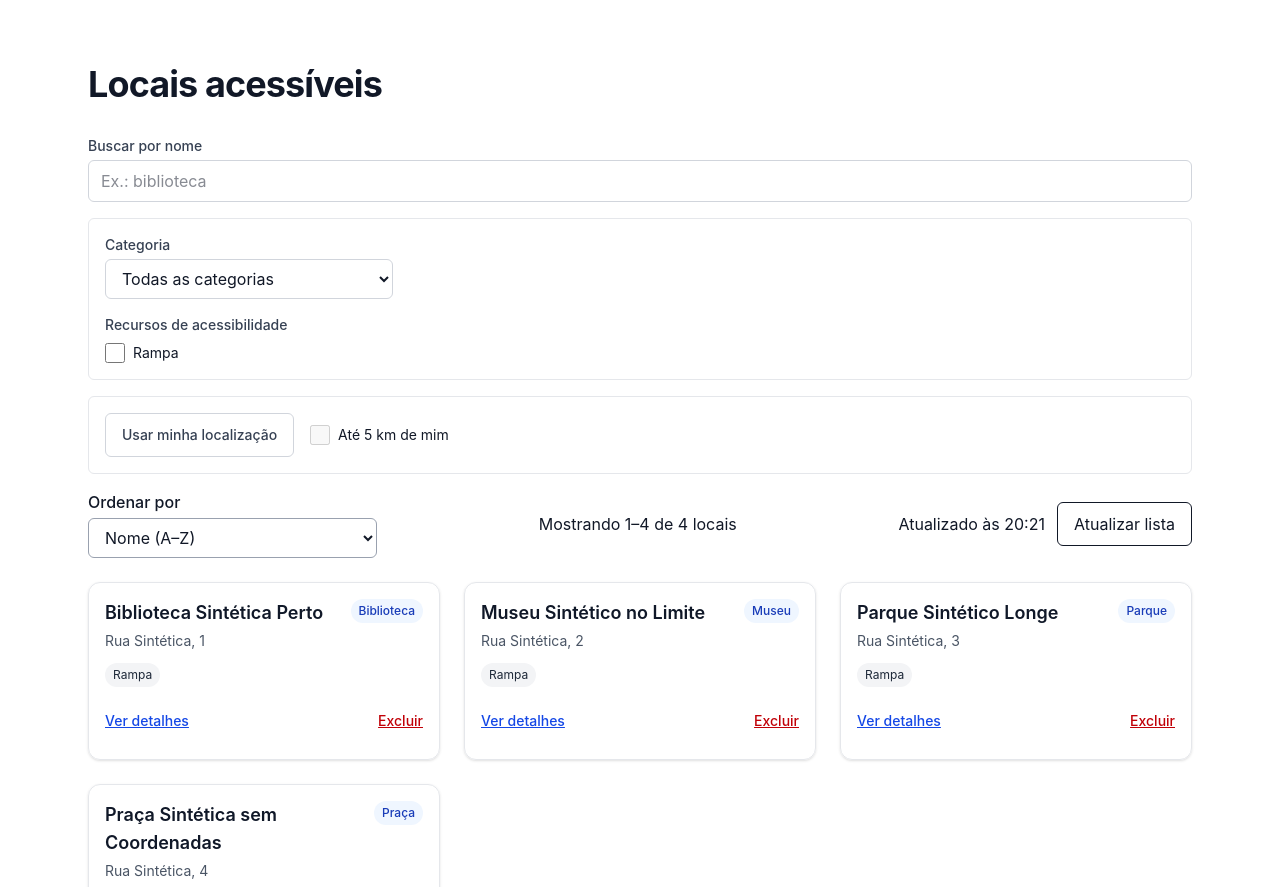
Scenario: Locais: filtro "Até 5 km de mim" › soma com a busca por nome
Expected: the text "Mostrando 1–4 de 4 locais" is shown, 539,512 -> 737,536
Click the button "Usar minha localização".
click(200, 435)  # box 105,413 -> 294,457
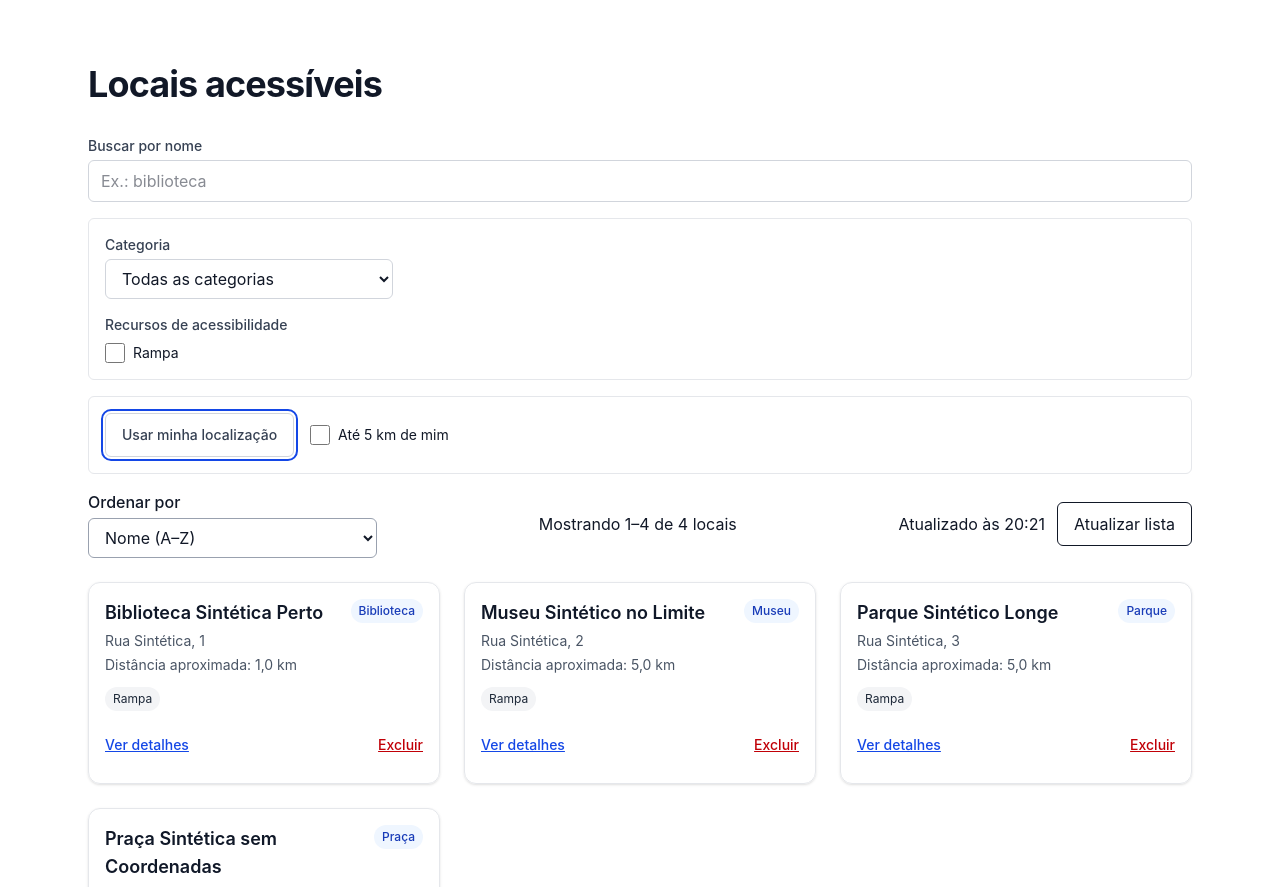
Click the checkbox labelled "Até 5 km de mim".
click(320, 435)  # box 310,425 -> 330,445
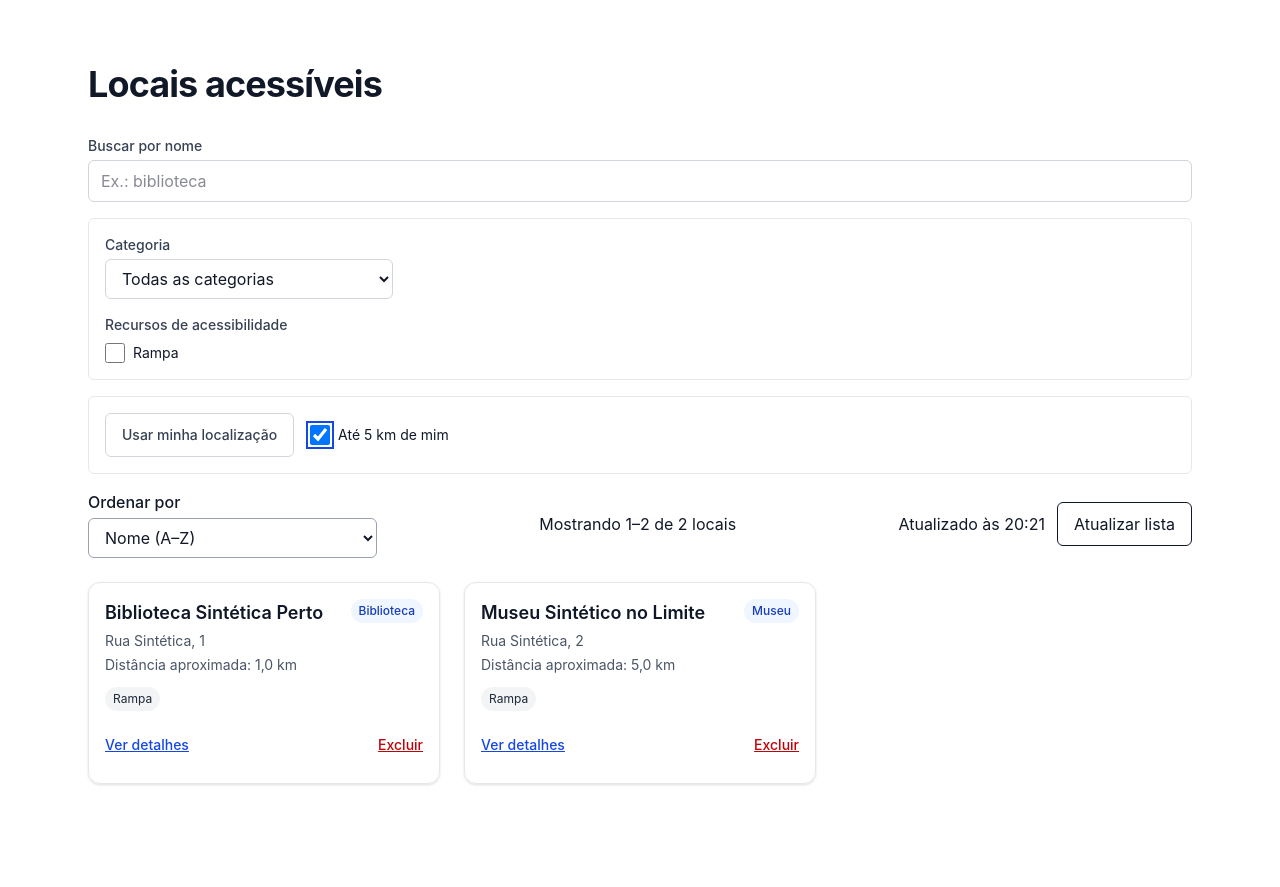
Type "museu" into the search field labelled "Buscar por nome".
click(640, 181); type("museu")  # box 88,160 -> 1192,202
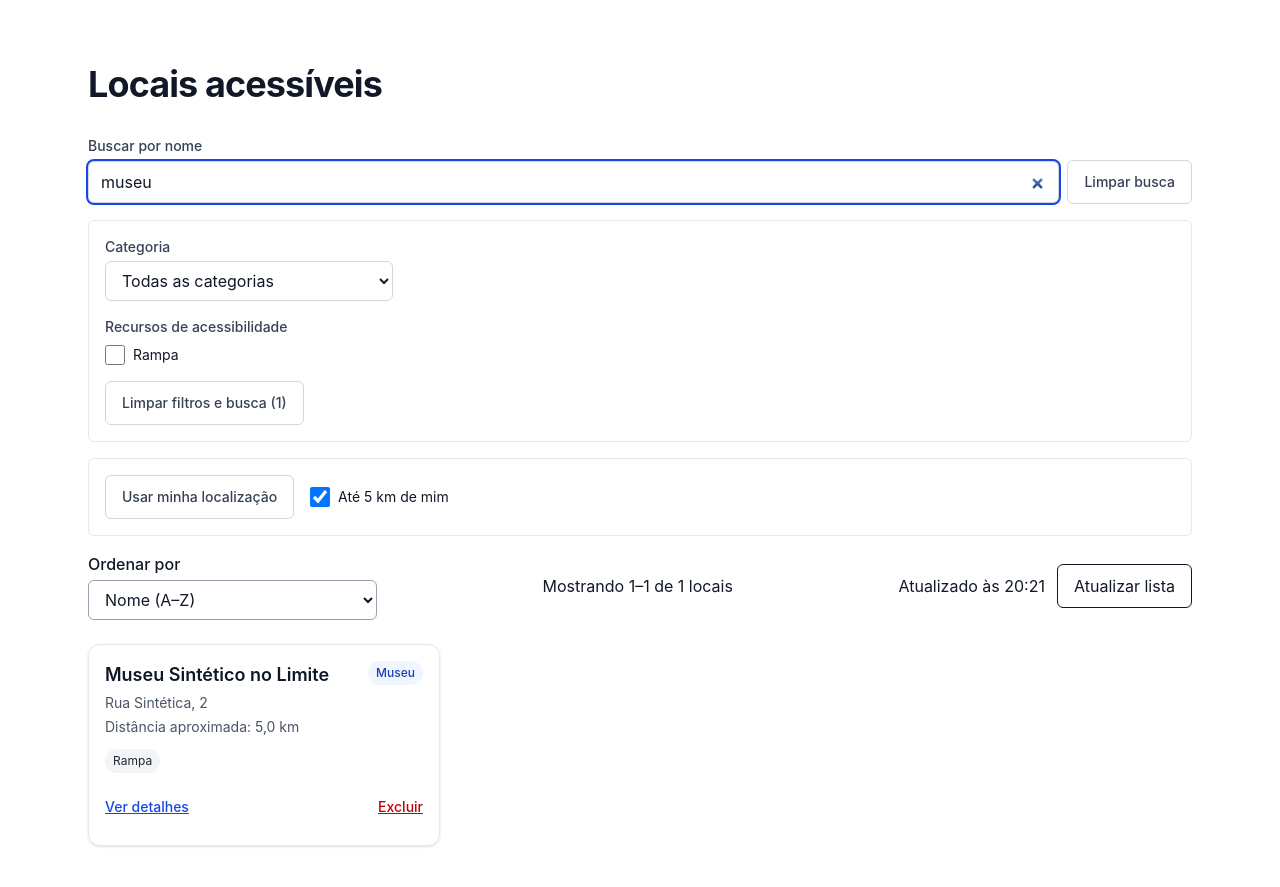
Clear the search field labelled "Buscar por nome" at [574, 182], box 88,161 -> 1059,203
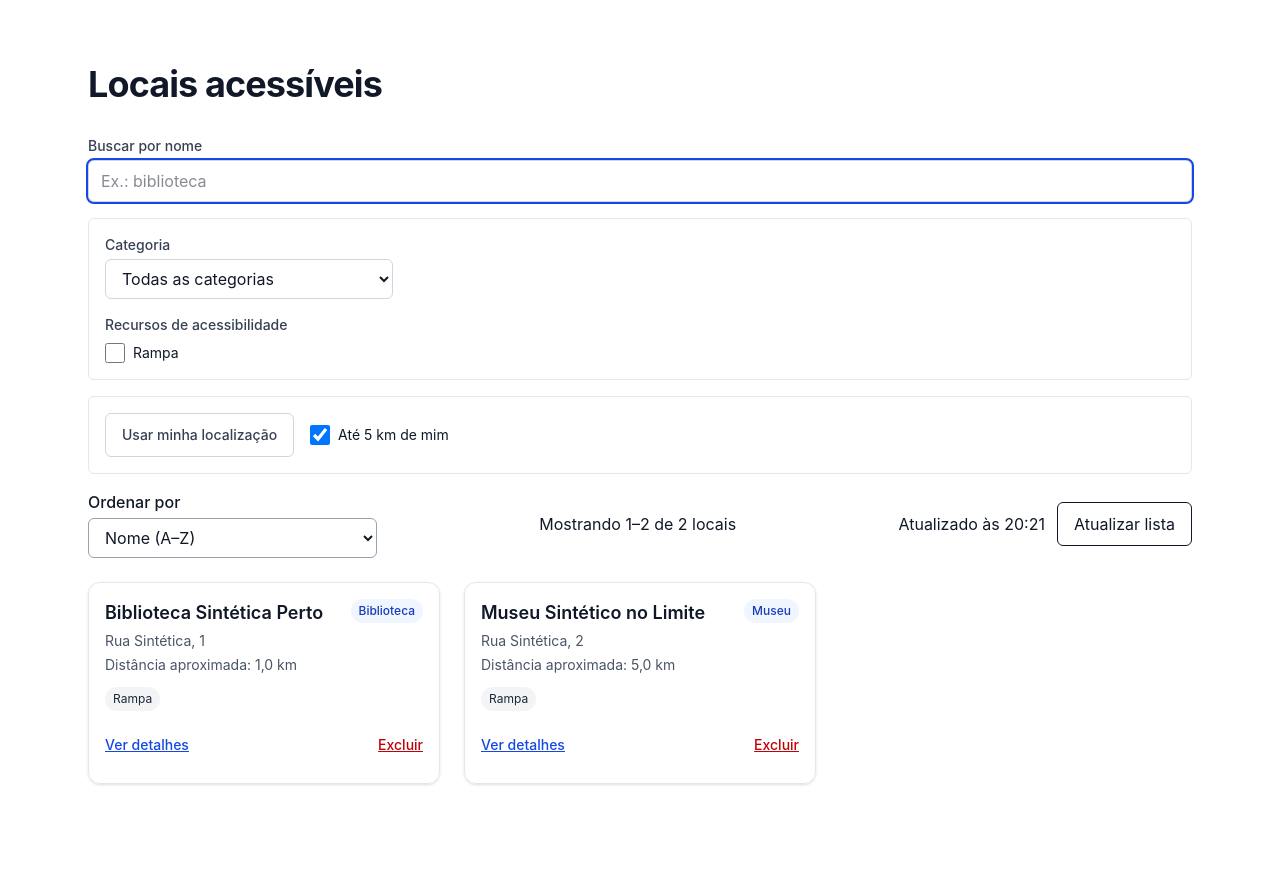
Type "parque" into the search field labelled "Buscar por nome".
click(640, 181); type("parque")  # box 88,160 -> 1192,202
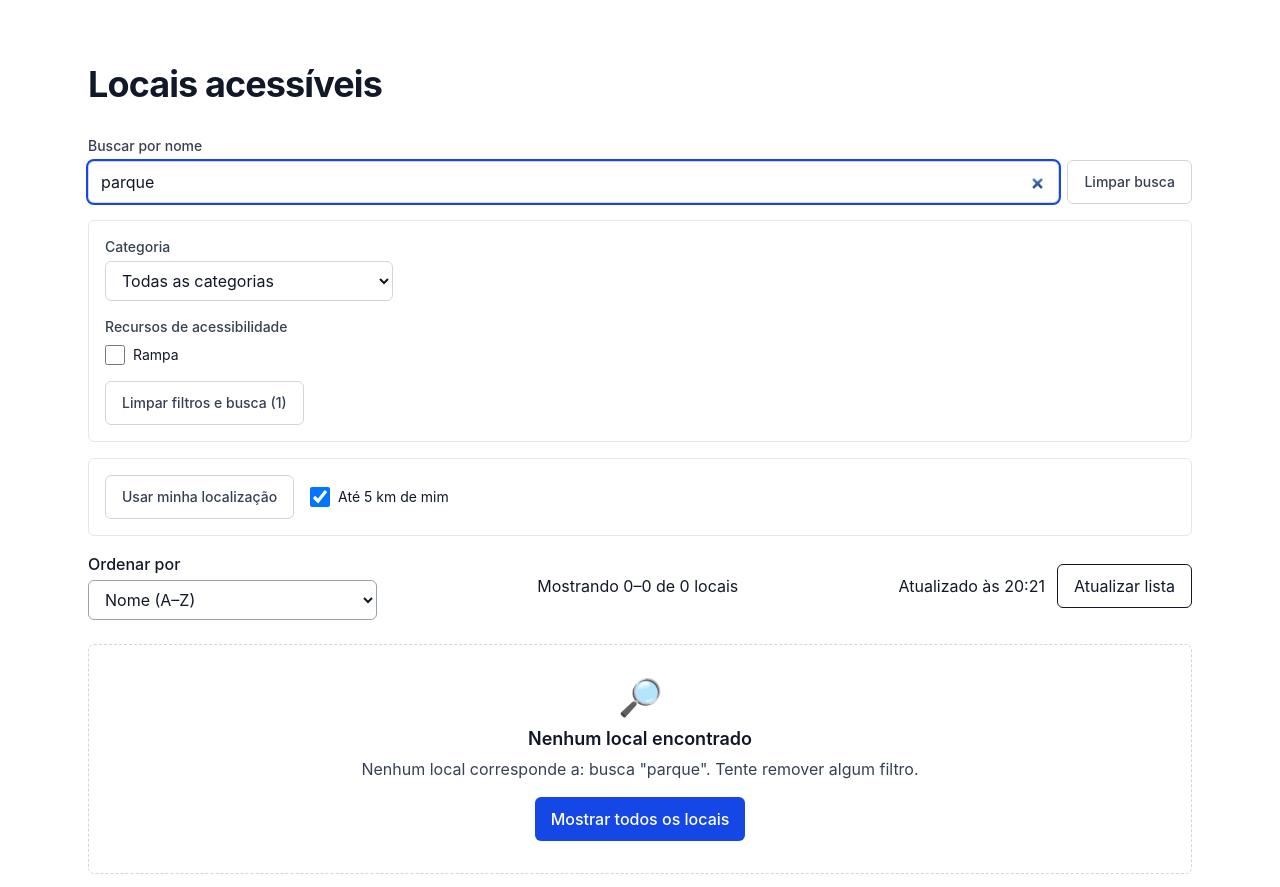
Expected: the text "Nenhum local encontrado" is shown, 528,728 -> 752,749
Expected: the text "busca .parque." is shown, 361,759 -> 919,779
Expected: the button "Mostrar todos os locais" is shown, 535,797 -> 745,841
